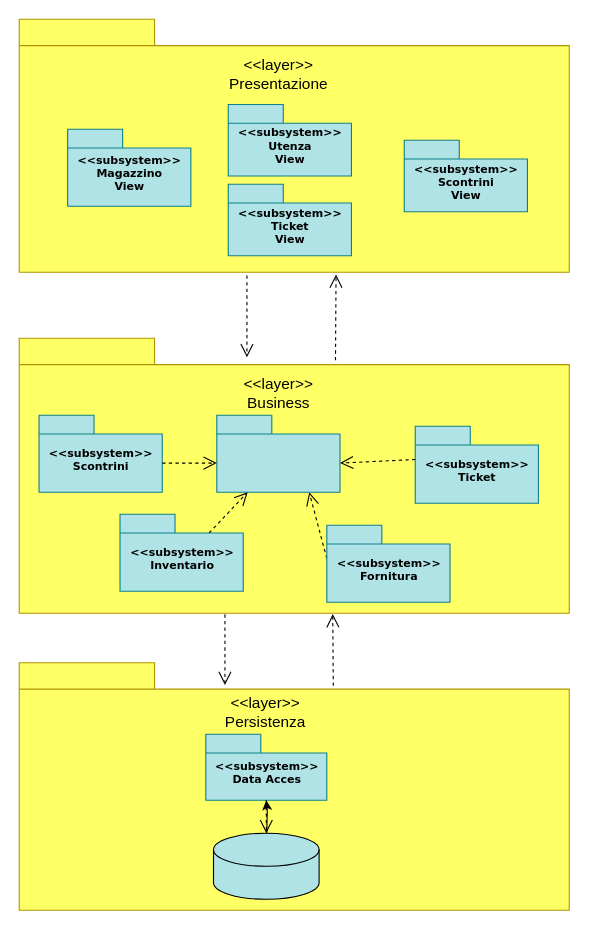
The diagram is 589 pixels wide and 930 high, and some of its shapes have lost their labels. Each missing label, with the centre of its shape:
"<<subsystem>> Utenza" belongs at point 278,453.
"Database" belongs at point 265,865.
